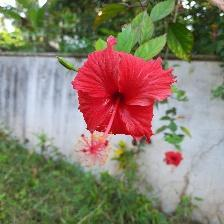hibiscus: (69, 44, 177, 170), (163, 148, 186, 169)
